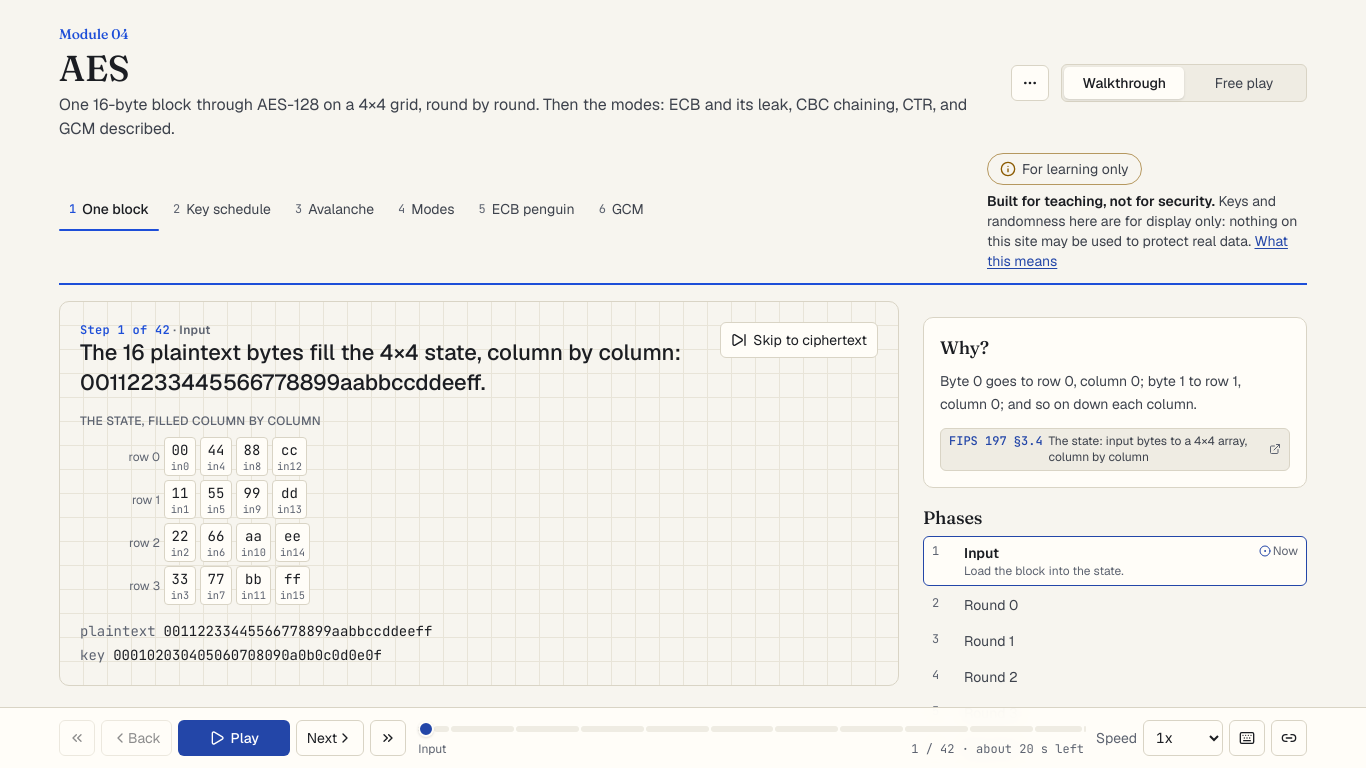
Test: AesModule › refuses a short key in free play without breaking the run
Click the button "Free play" at (1244,82), box x1=1184 y1=66 x2=1304 y2=98
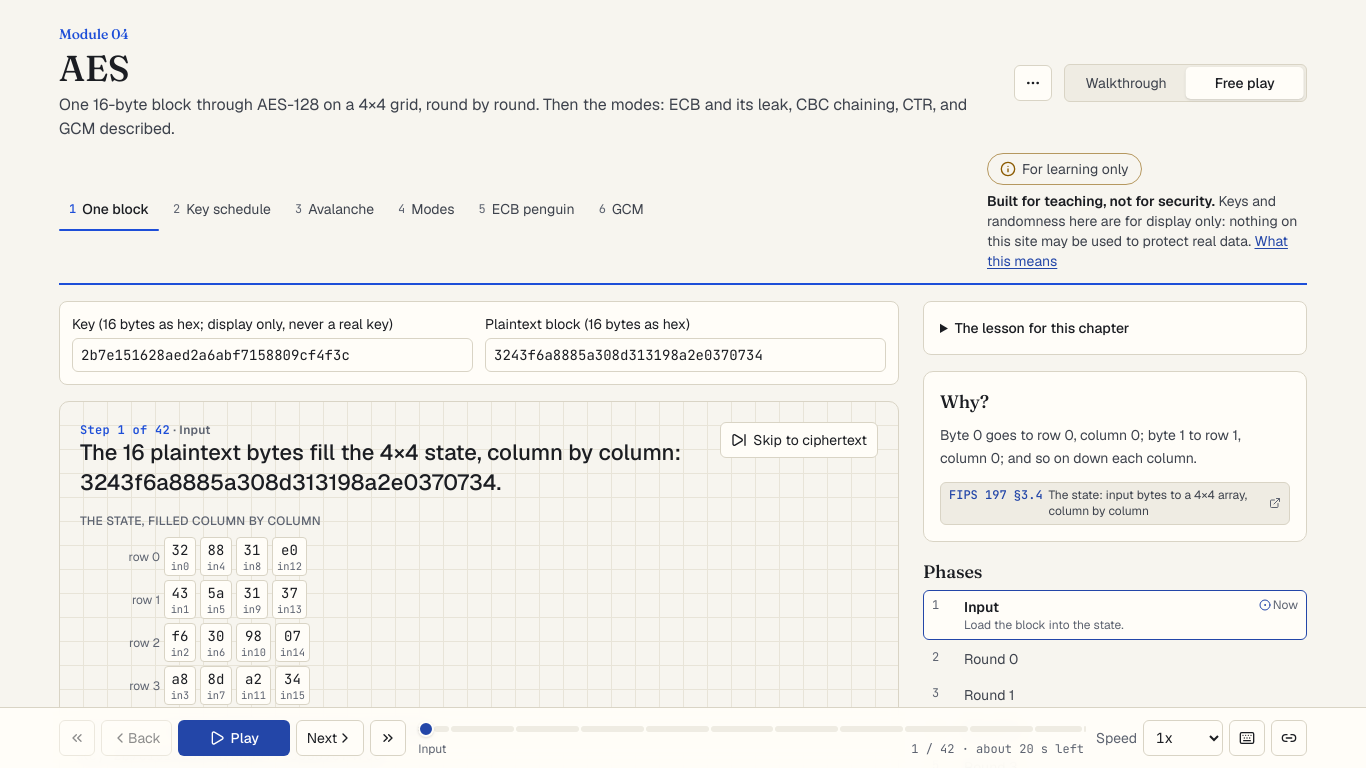
Replace the text in the field labelled "Key (16 bytes as hex; display only, never a real key)" with "0011" at (272,355), box x1=72 y1=338 x2=473 y2=372
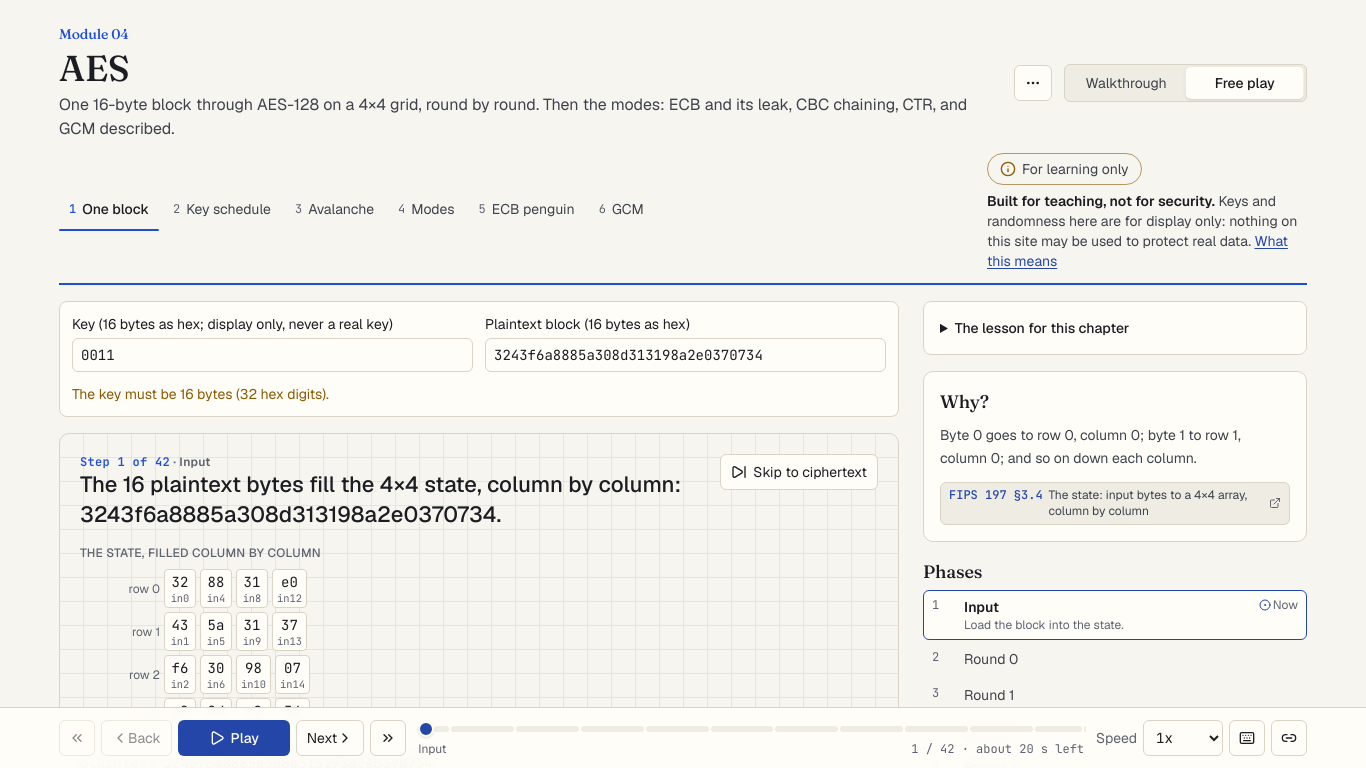
Expected: the message that starts with "Step" shows "Step 1 of 42", x1=80 y1=454 x2=708 y2=529
Expected: the message "The key must be 16 bytes (32 hex digits)." is shown, x1=72 y1=385 x2=329 y2=403
